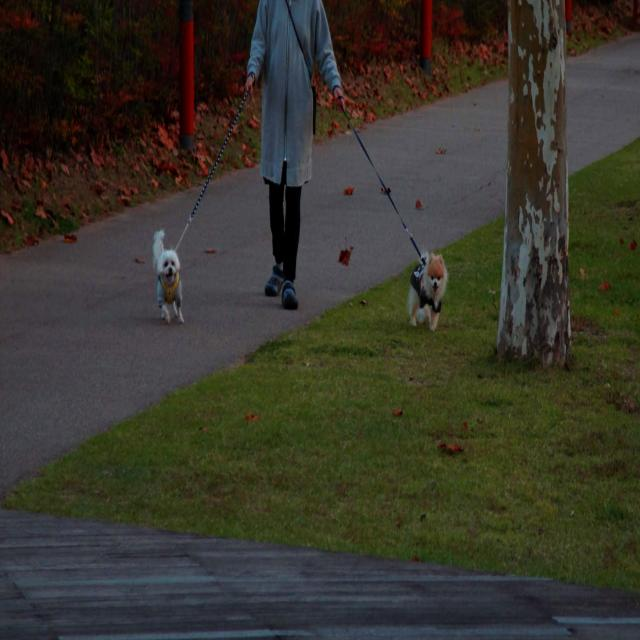Leashed_Dog: (294, 72, 448, 332), (152, 77, 278, 326)
